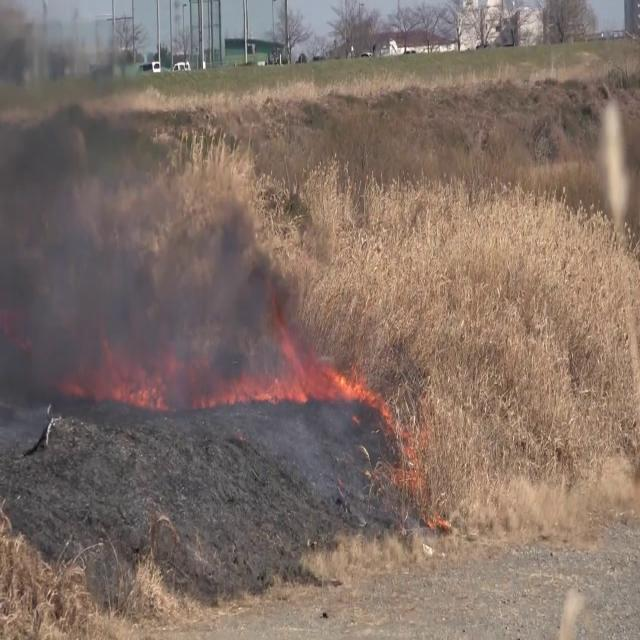Fire: (327, 361, 377, 416)
Smoke: (0, 2, 174, 410), (63, 184, 312, 408)
